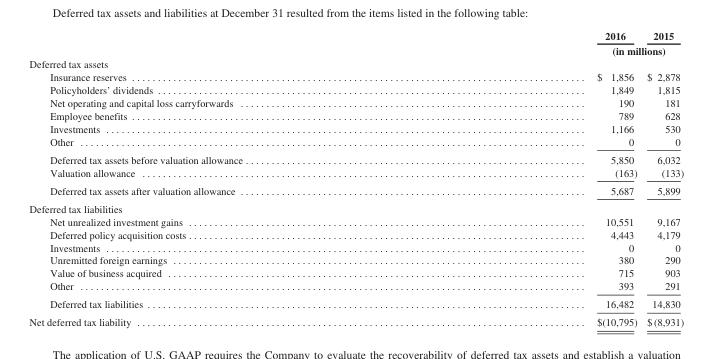table: (28, 29, 683, 327)
table column: (28, 29, 419, 327), (419, 29, 641, 327), (641, 29, 683, 327)
table column header: (28, 29, 683, 57)
table projected row header: (28, 199, 683, 214), (28, 57, 683, 69)
table row: (28, 181, 683, 199), (28, 294, 683, 312), (28, 134, 683, 150), (28, 165, 683, 181), (28, 42, 683, 57), (28, 150, 683, 165), (28, 199, 683, 214), (28, 279, 683, 294), (28, 312, 683, 327), (28, 29, 683, 42), (28, 69, 683, 82), (28, 82, 683, 95), (28, 95, 683, 108), (28, 108, 683, 121), (28, 121, 683, 134), (28, 214, 683, 227), (28, 227, 683, 240), (28, 240, 683, 253), (28, 253, 683, 266), (28, 266, 683, 279), (28, 57, 683, 69)
table spanning cell: (419, 42, 683, 57)
